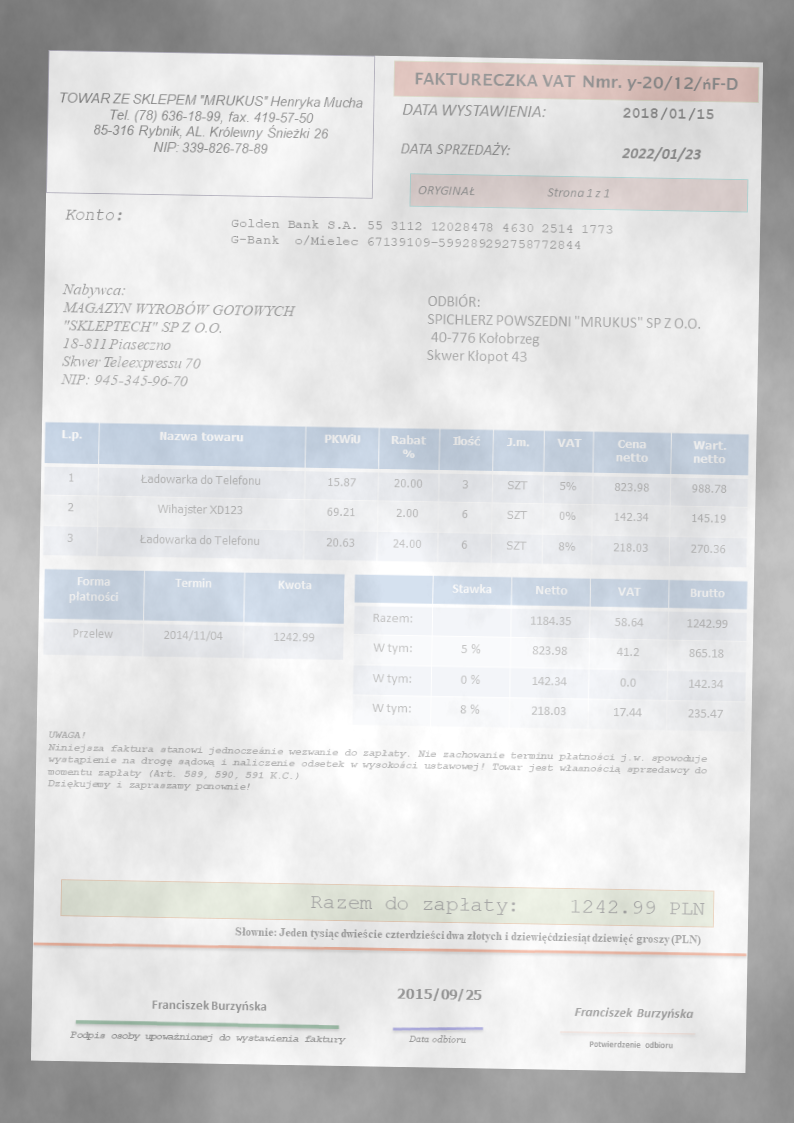Table: (42, 421, 749, 569), (351, 573, 750, 733), (42, 567, 345, 662)
TextBox: (45, 728, 710, 801), (59, 282, 297, 391), (56, 87, 366, 159), (425, 291, 701, 368), (230, 215, 615, 254), (308, 891, 705, 921), (234, 924, 702, 947), (411, 67, 739, 94), (68, 1028, 346, 1047), (415, 182, 612, 202), (400, 99, 548, 120), (572, 1005, 694, 1023), (398, 139, 512, 158), (149, 997, 268, 1014), (621, 105, 715, 124), (395, 985, 483, 1003), (619, 145, 705, 162), (587, 1038, 675, 1051), (63, 205, 123, 224), (407, 1032, 468, 1047)
